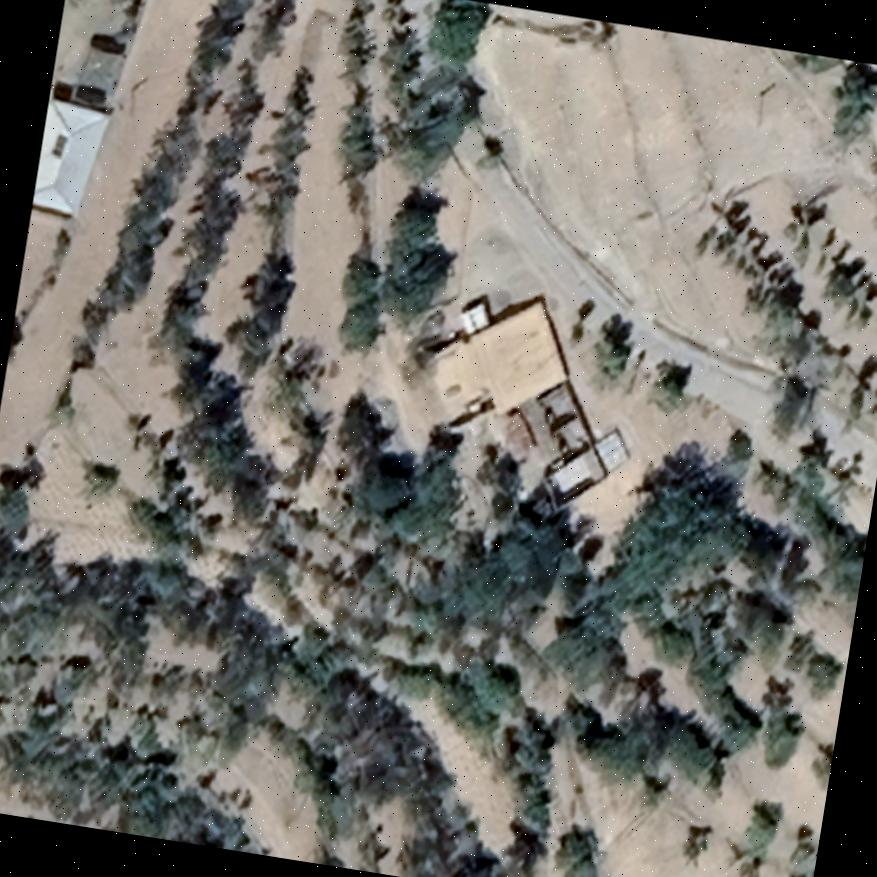Solarpanel: (47, 128, 71, 162)
